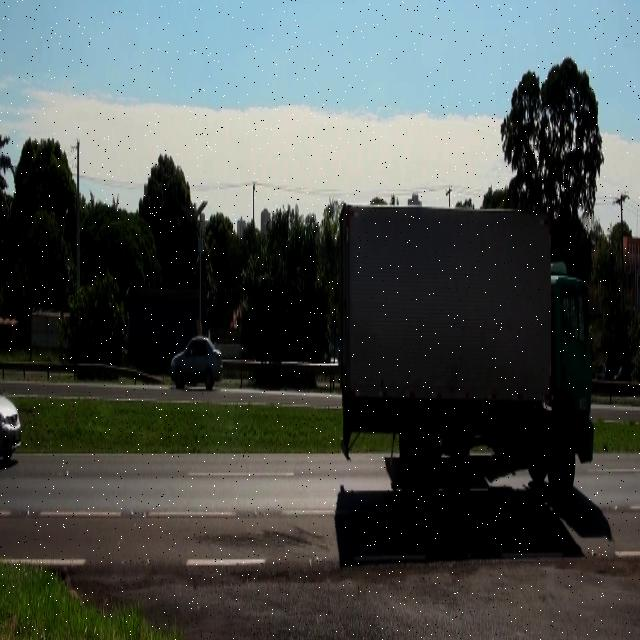-axle: (405, 424, 441, 510), (548, 425, 576, 503)
